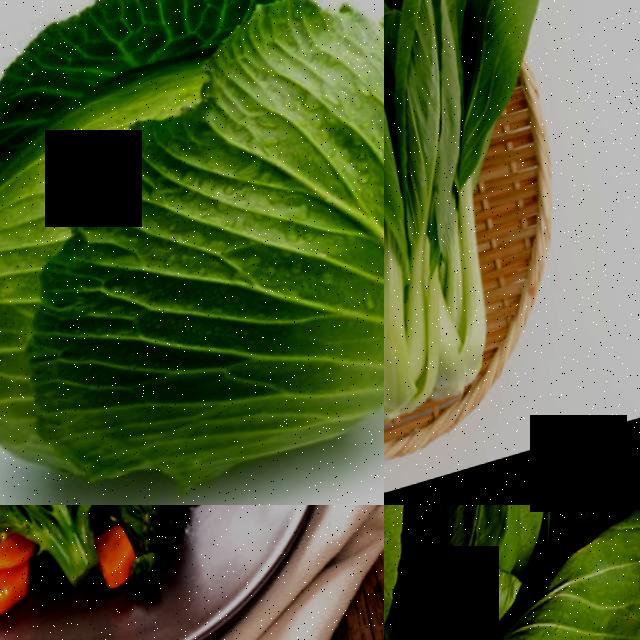bok choy: (384, 0, 543, 401), (384, 0, 423, 439)
broccoli: (0, 505, 105, 623), (101, 505, 189, 573)
cabbage: (0, 0, 384, 505)
